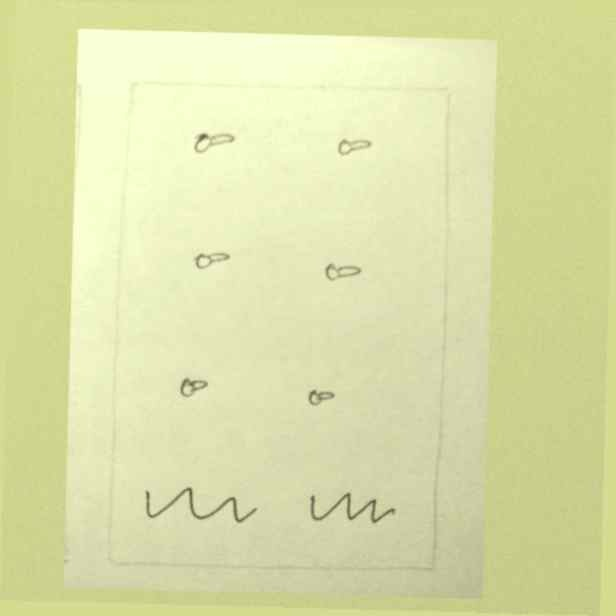switch: (182, 121, 248, 161), (167, 364, 221, 411), (315, 249, 369, 295), (325, 126, 383, 167), (185, 241, 240, 279), (295, 379, 348, 416)
text: (130, 477, 266, 537), (298, 479, 407, 537)
